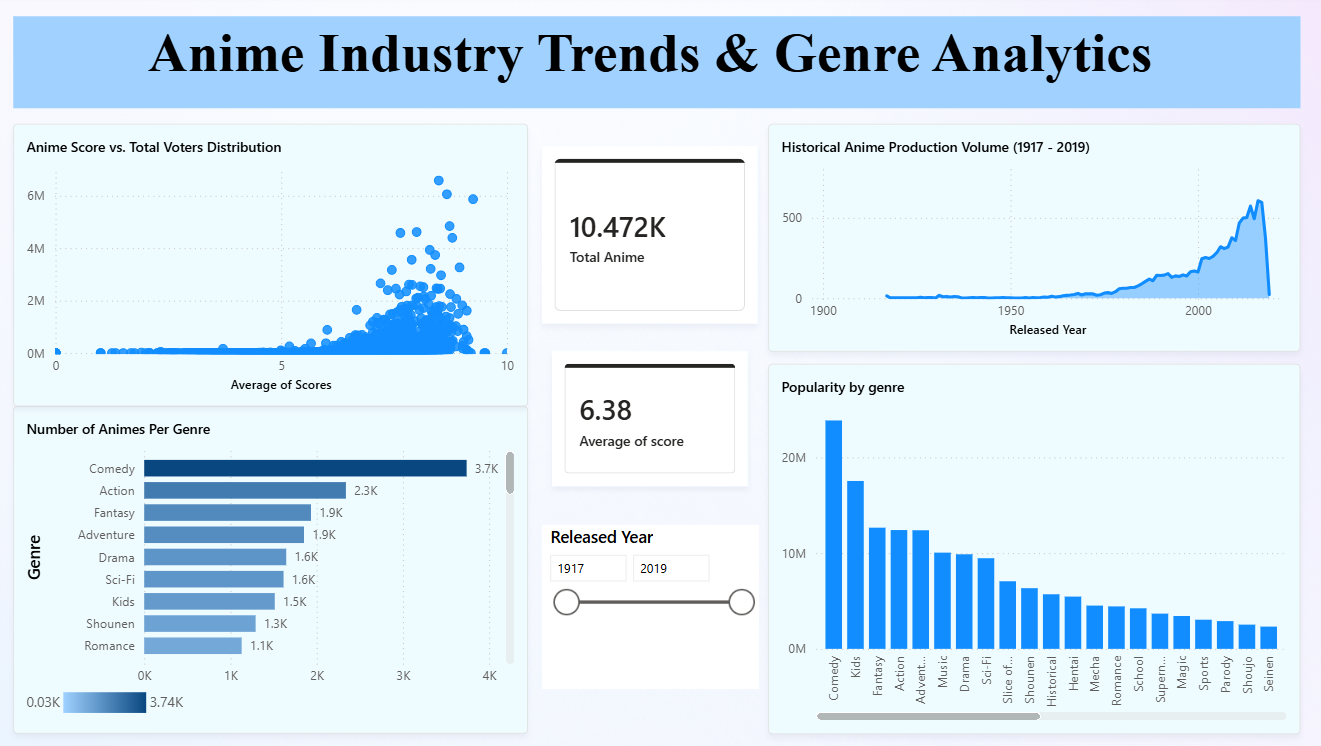

This screenshot's page, from the dashboard's own definition file:
{"tool":"powerbi","page":{"name":"Page 1","canvas":[1280,720],"ordinal":0},"visuals":[{"type":"clusteredBarChart","title":"Number of Animes Per Genre","fields":{"Category":["anime.genre"],"Y":["anime.Total Unique Anime"]},"box":[15.1,392.5,496.7,315.6],"z":0},{"type":"lineChart","title":"Historical Anime Production Volume (1917 - 2019)","fields":{"Category":["anime.released_year"],"Y":["anime.Total Unique Anime"]},"box":[744.3,119.7,513.4,219.8],"z":1000},{"type":"cardVisual","fields":{"Data":["anime.Total Unique Anime"]},"box":[525.6,141.3,208.6,171.5],"z":2000},{"type":"cardVisual","fields":{"Data":["Avg(anime.score)"]},"box":[535.2,338.9,189.4,130.4],"z":3000},{"type":"slicer","fields":{"Values":["anime.released_year"]},"box":[525.6,506.3,208.6,157.8],"z":4000},{"type":"columnChart","title":"Popularity by genre","fields":{"Category":["anime.genre"],"Y":["Sum(anime.popularity)"]},"box":[744.3,350.6,513.4,357.6],"z":5000},{"type":"scatterChart","title":"Anime Score vs. Total Voters Distribution","fields":{"Y":["Sum(anime.scored_by)"],"Category":["anime.title"],"X":["Avg(anime.score)"]},"box":[15.3,119.7,496.7,272.7],"z":6000},{"type":"textbox","box":[15.3,15.3,1242.4,89],"z":7000}]}

Visuals, with their boxes in screenshot pixels (x1, y1, x2, y2), scaled from the page's 1280x720 canvas onto the 1321x746 screenshot:
"Number of Animes Per Genre" clusteredBarChart: l=16, t=407, r=528, b=734
"Historical Anime Production Volume (1917 - 2019)" lineChart: l=768, t=124, r=1298, b=352
cardVisual - anime.Total Unique Anime: l=542, t=146, r=758, b=324
cardVisual - Avg(anime.score): l=552, t=351, r=748, b=486
slicer - anime.released_year: l=542, t=525, r=758, b=688
"Popularity by genre" columnChart: l=768, t=363, r=1298, b=734
"Anime Score vs. Total Voters Distribution" scatterChart: l=16, t=124, r=528, b=407
textbox: l=16, t=16, r=1298, b=108
